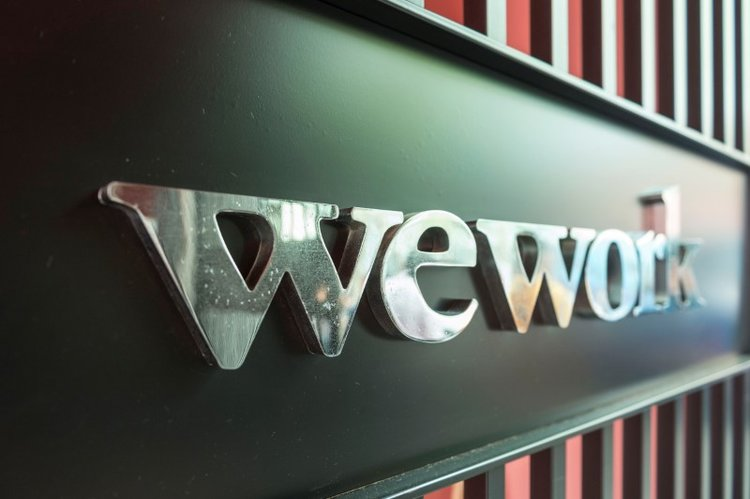wework: (91, 176, 710, 374)
